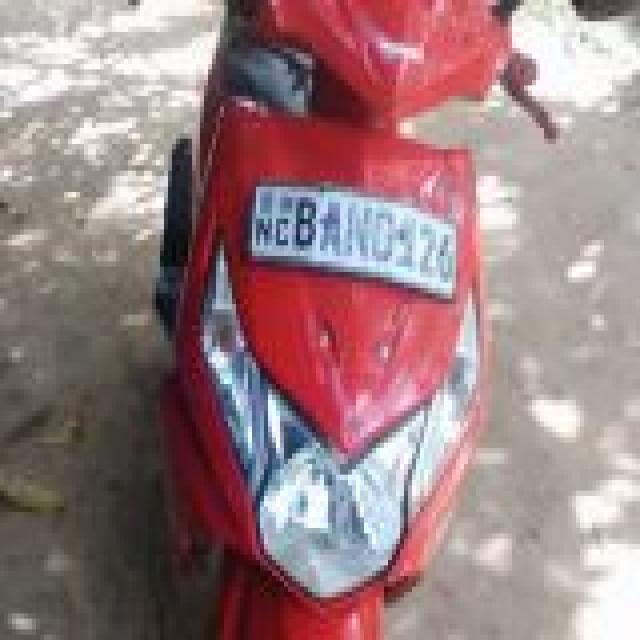motorbike: (131, 0, 519, 640)
